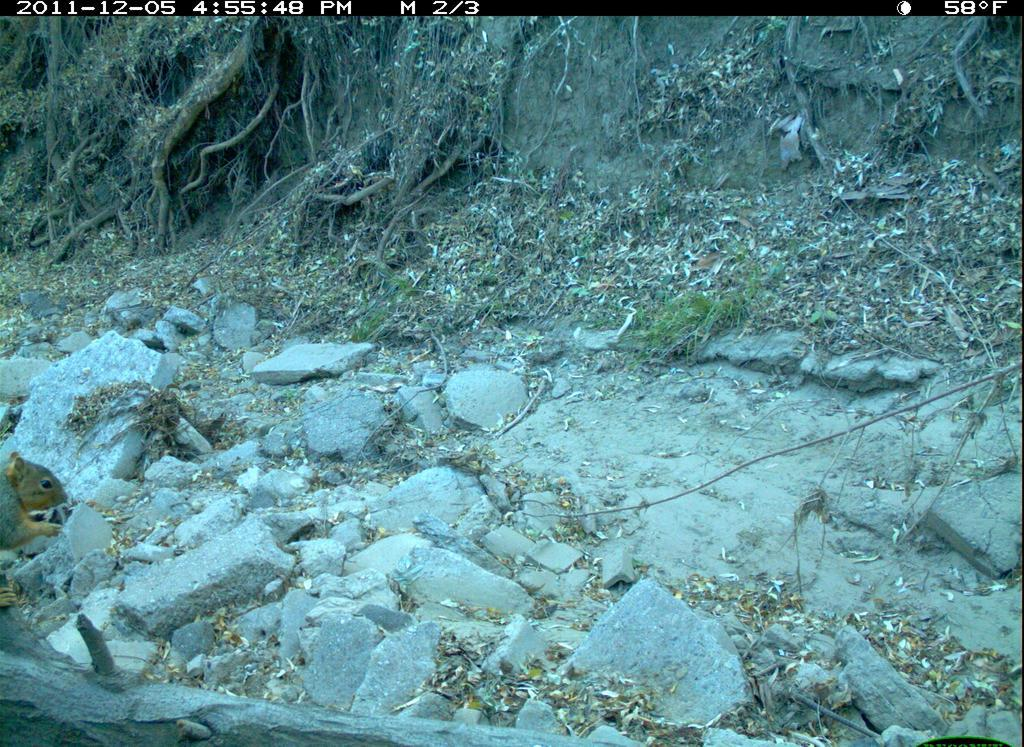squirrel: (1, 445, 93, 583)
